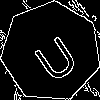U: (26, 26, 82, 85)
